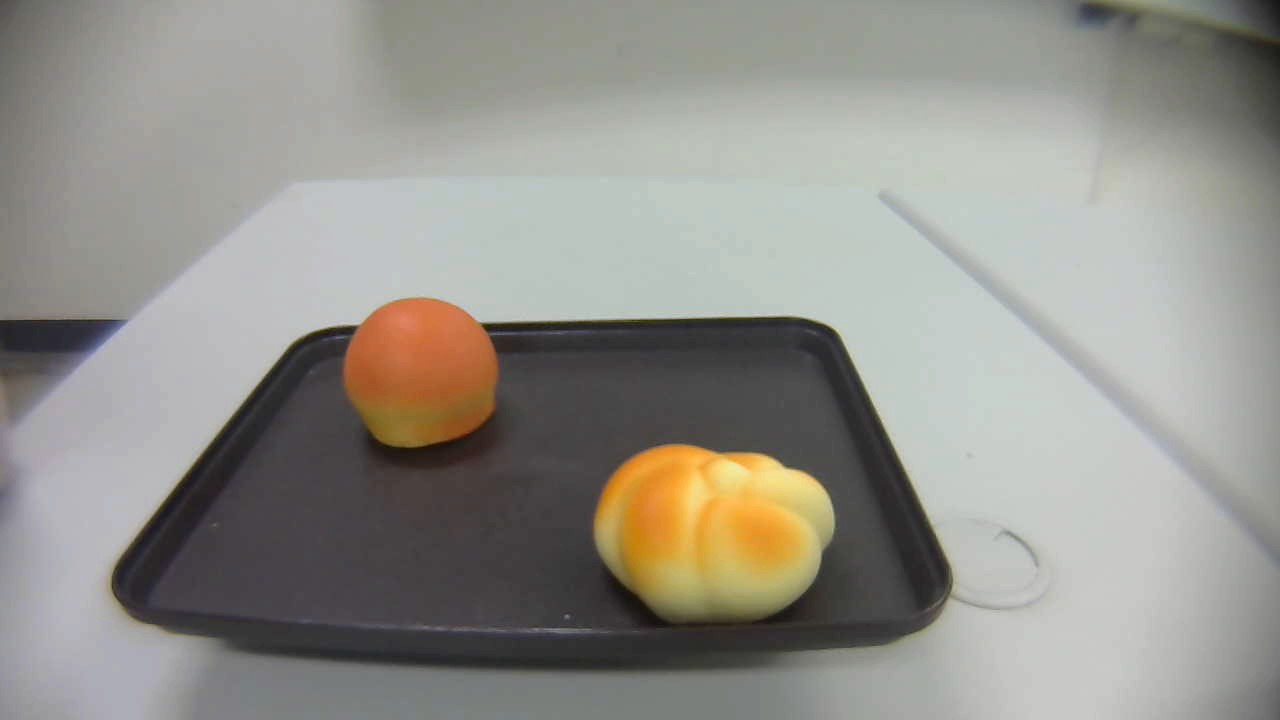bun: (342, 297, 499, 449)
twist bread: (592, 442, 836, 626)
